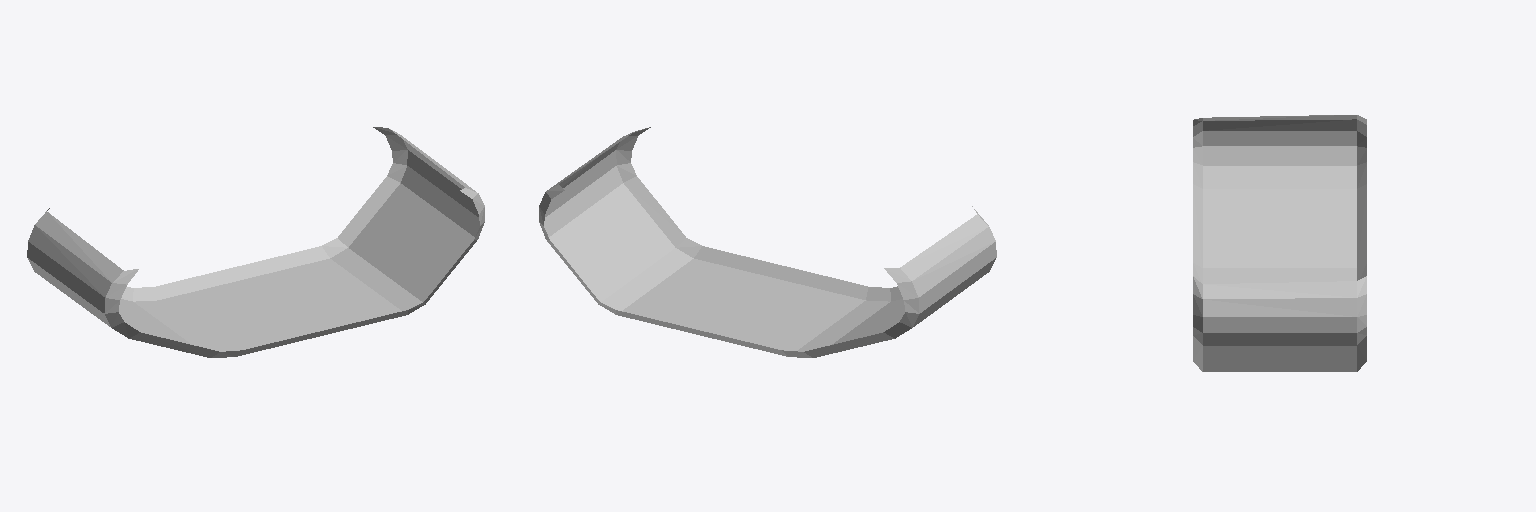
Rendered from treadBL.obj.
3 renders of one model, left to right at view 1: azimuth 30°, elevation 25°; view 2: azimuth 150°, elevation 25°; view 3: azimuth 270°, elevation 25°, orthographic.
Visible parts, largest first — view 1: ungrouped; view 2: ungrouped; view 3: ungrouped.
Part boxes in pixels (x1,y1,x2,y2): ungrouped: (27,127,484,357); ungrouped: (539,127,996,357); ungrouped: (1193,115,1366,371).
Size of the model in its own units: 11.1 by 3.25 by 4.4.